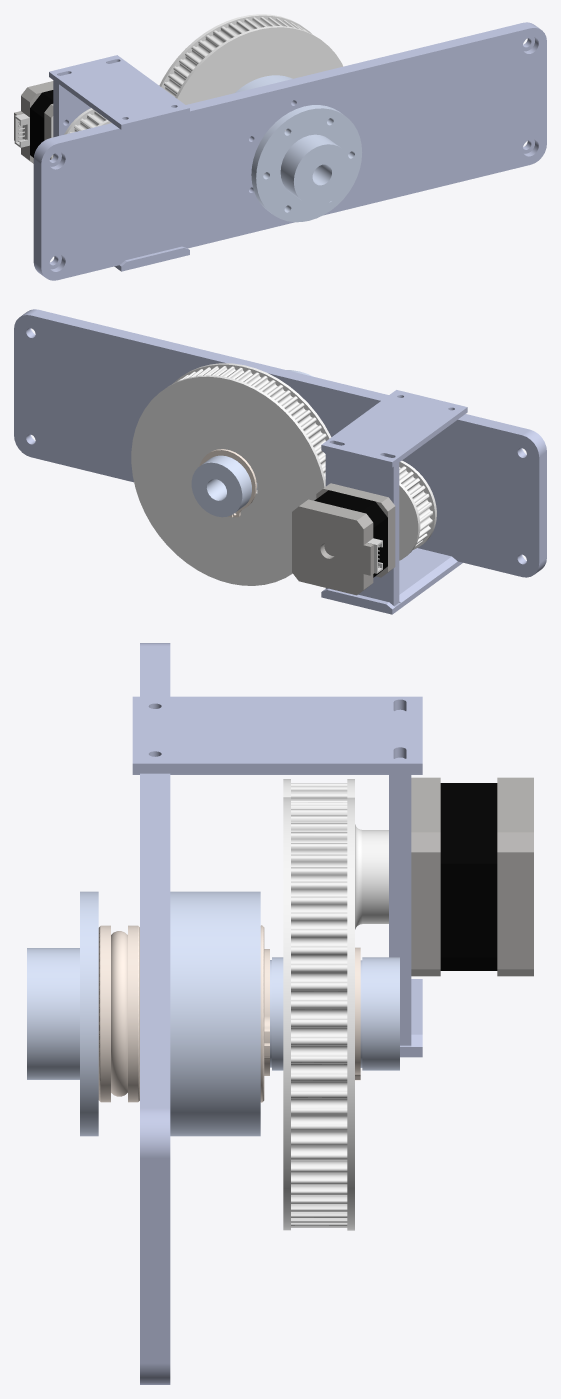
Rendered from STEM.obj.
3 views of the same model, one above another, from view 1: azimuth 30°, elevation 25°; view 2: azimuth 150°, elevation 25°; view 3: azimuth 270°, elevation 25° (orthographic). The views are drawn at different scales.
Parts seen in each view (by area): view 1: STEM; view 2: STEM; view 3: STEM.
Part boxes in pixels (left/top/right/bottom): STEM: left=14, top=14, right=546, bottom=280; STEM: left=14, top=309, right=546, bottom=614; STEM: left=27, top=643, right=533, bottom=1384.
Size of the model in its own units: 0.31 by 0.115 by 0.1345.
